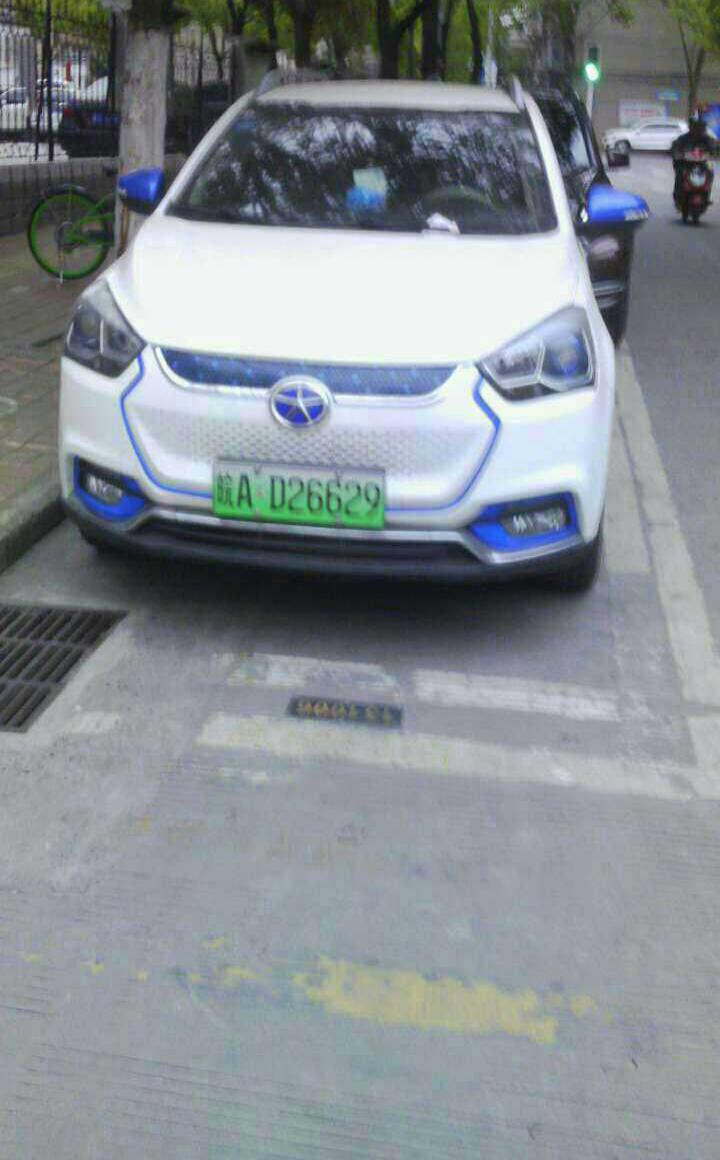car_green: (213, 458, 393, 533)
